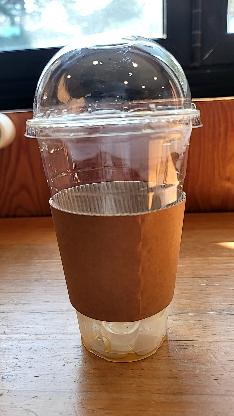Plastic Cup: (25, 36, 202, 362), (26, 38, 204, 142)
